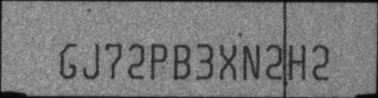2: (311, 43, 330, 80), (266, 43, 283, 80), (126, 43, 143, 79)
3: (195, 41, 212, 80)
7: (103, 42, 122, 78)
B: (173, 43, 191, 80)
G: (59, 43, 77, 79)
H: (287, 43, 305, 81)
J: (82, 43, 99, 79)
N: (240, 43, 260, 81)
P: (150, 43, 168, 80)
X: (219, 43, 238, 80)
